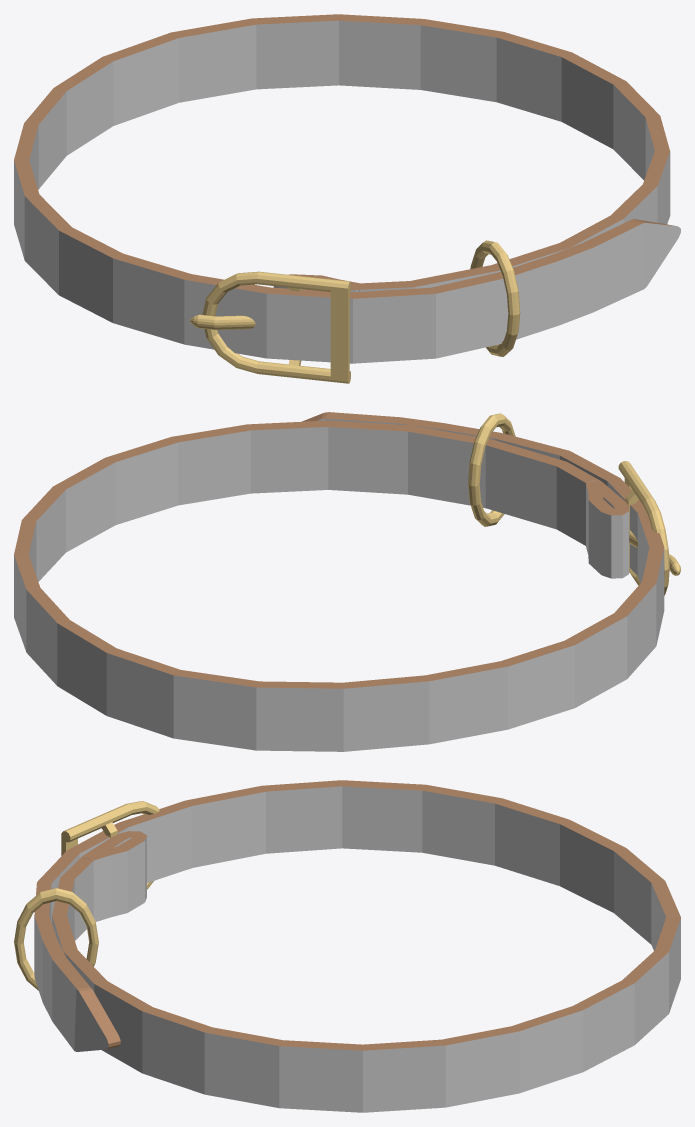
Rendered from Stuff.L_Сollar.fbx.
3 views of the same model, one above another, from view 1: azimuth 30°, elevation 25°; view 2: azimuth 150°, elevation 25°; view 3: azimuth 270°, elevation 25° (orthographic). The views are drawn at different scales.
Visible parts, largest first — view 1: Stuff.L_Сollar; view 2: Stuff.L_Сollar; view 3: Stuff.L_Сollar.
Boxes of the visible parts, x1,y1,x2,y2 form: Stuff.L_Сollar: (14,14,680,383); Stuff.L_Сollar: (14,412,680,751); Stuff.L_Сollar: (14,780,680,1112).
Size of the model in its own units: 92.23 by 17.19 by 96.09.
